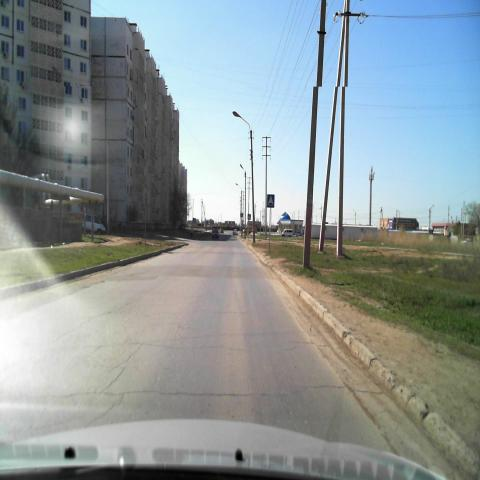5_20: (267, 194, 275, 208)
